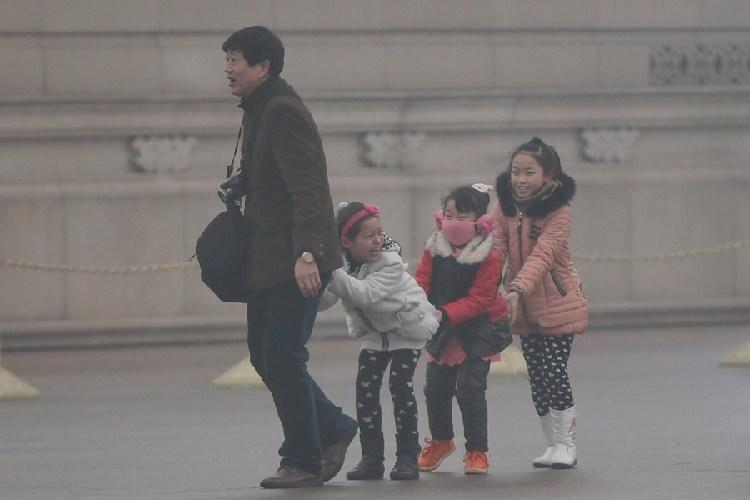person: (221, 24, 359, 489), (305, 194, 440, 480), (480, 136, 589, 468), (409, 183, 513, 474)
